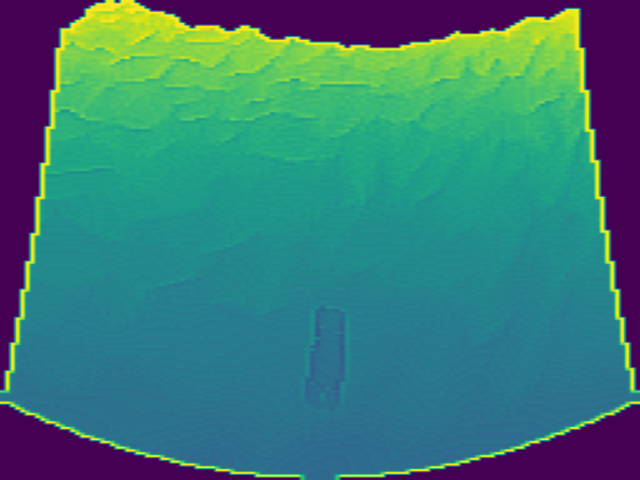car_0198: (301, 307, 346, 407)
